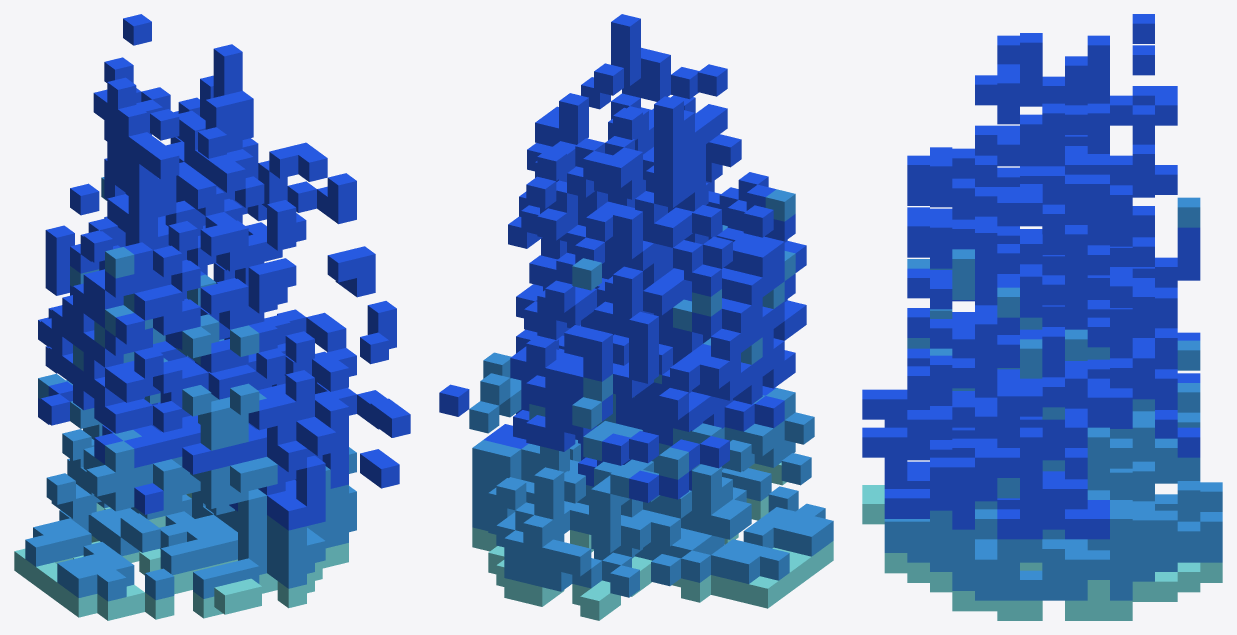
The model's file is campfire_blue.obj.
3 renders of one model, left to right at view 1: azimuth 30°, elevation 25°; view 2: azimuth 150°, elevation 25°; view 3: azimuth 270°, elevation 25°, orthographic. The views are drawn at different scales.
Parts seen in each view (by area): view 1: campfire_blue; view 2: campfire_blue; view 3: campfire_blue.
Part boxes in pixels (left/top/right/bottom): campfire_blue: left=14, top=14, right=410, bottom=620; campfire_blue: left=439, top=14, right=833, bottom=620; campfire_blue: left=862, top=14, right=1222, bottom=620.
Bounding box in the file's own units: 1.6 × 2.6 × 1.6.
Materials: 1 (1 with a texture image).
